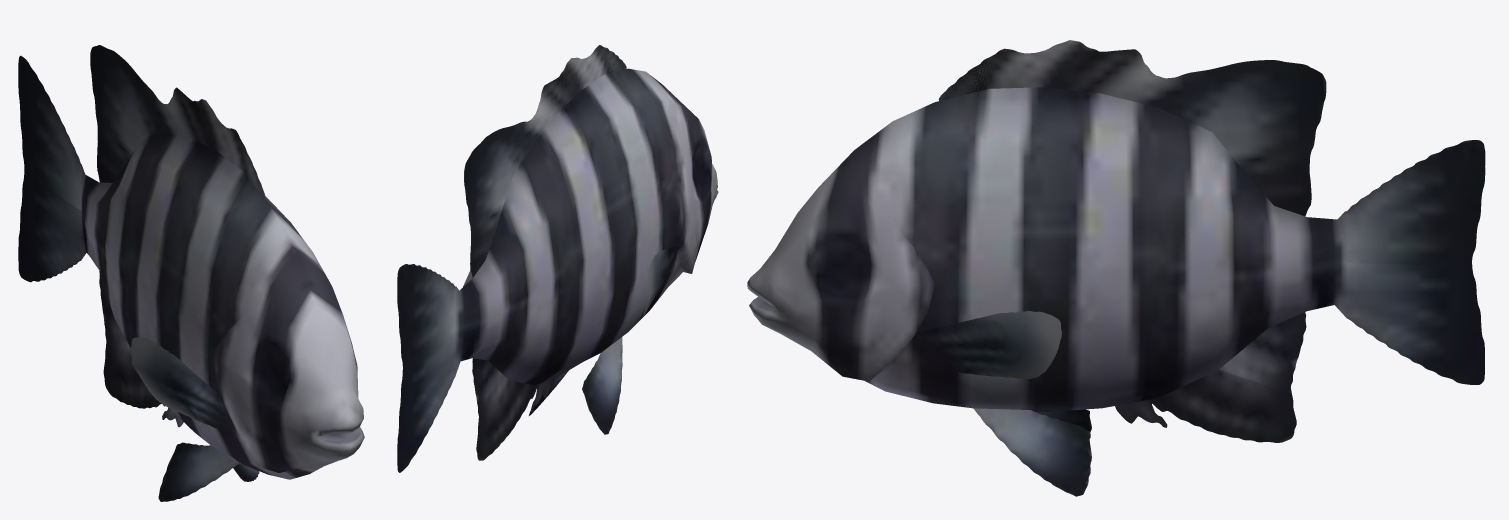
Rendered from barred-knifejaw.glb.
3 views of the same model, side by side, from view 1: azimuth 30°, elevation 25°; view 2: azimuth 150°, elevation 25°; view 3: azimuth 270°, elevation 25° (orthographic). The views are drawn at different scales.
Bounding box in the file's own units: 1.67 × 4.05 × 5.87.
Materials: 1 (1 with a texture image).
